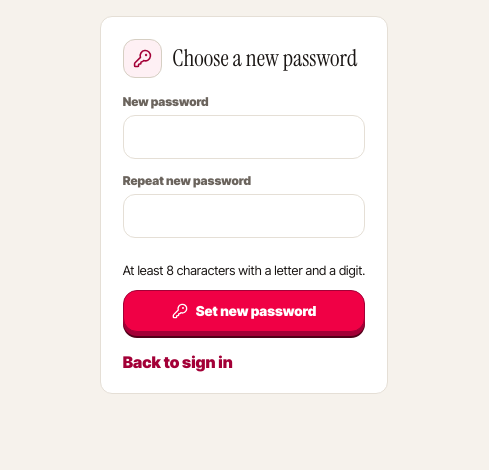
Scenario: password reset pages › shows the API message for an expired token
The width and height of the screenshot is (489, 470).
Type "newpass12" into the password field labelled "New password" at {"x": 244, "y": 137}, box 123,115 -> 365,159
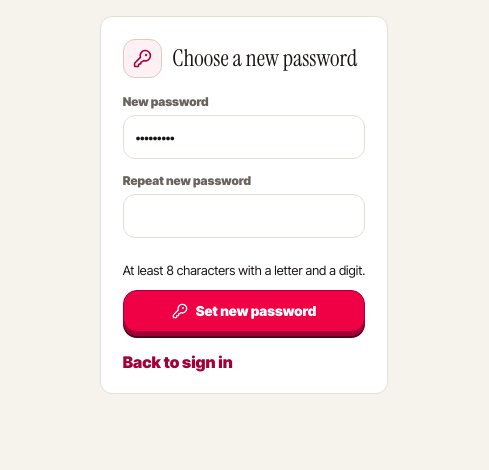
Type "newpass12" into the password field labelled "Repeat new password" at {"x": 244, "y": 216}, box 123,194 -> 365,238
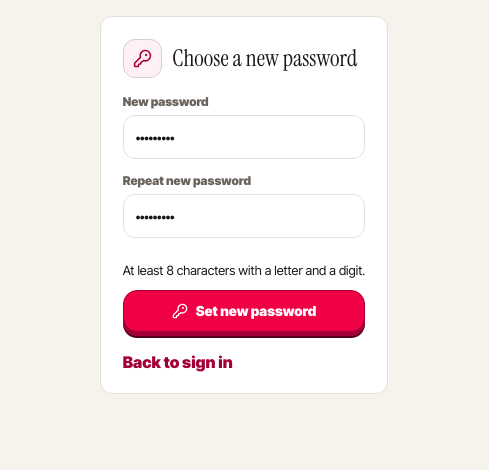
Click the button "Set new password" at {"x": 244, "y": 311}, box 123,290 -> 365,332
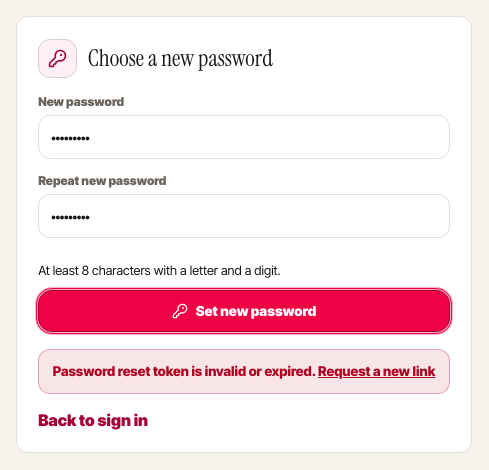
expect the text "Password reset token is invalid or expired." is shown: met, box 53,363 -> 316,379
